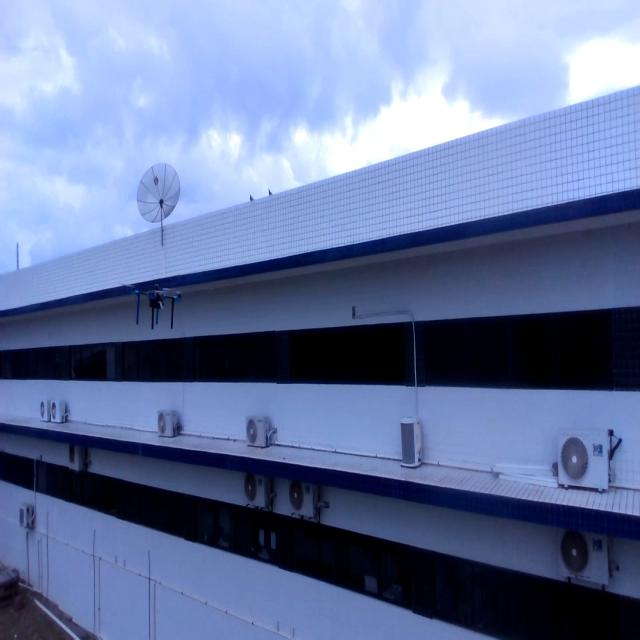-uav-: (124, 272, 188, 334)
